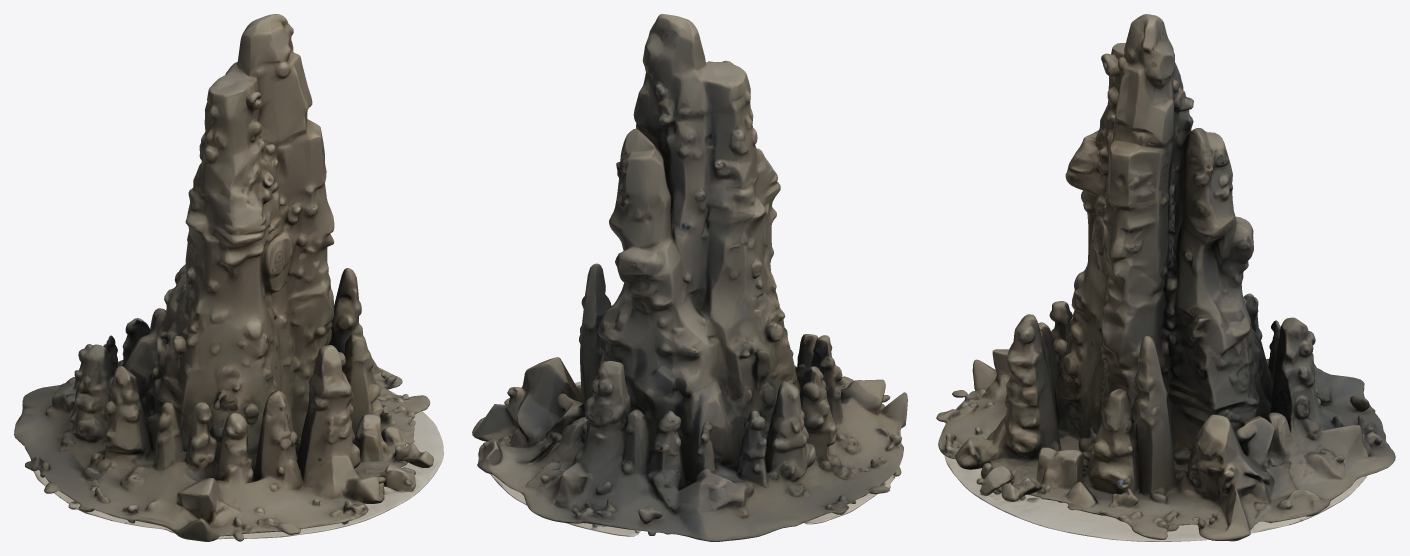
The model's file is nature-stalagmite.glb.
The picture shows the model from 3 angles, left to right: view 1: azimuth 30°, elevation 25°; view 2: azimuth 150°, elevation 25°; view 3: azimuth 270°, elevation 25°; orthographic projection. The views are drawn at different scales.
Parts seen in each view (by area): view 1: tripo_node_a2efe4f0-6aac-46a2-b68c-82f858715039; view 2: tripo_node_a2efe4f0-6aac-46a2-b68c-82f858715039; view 3: tripo_node_a2efe4f0-6aac-46a2-b68c-82f858715039.
Part boxes in pixels (bbox=[...]): tripo_node_a2efe4f0-6aac-46a2-b68c-82f858715039: bbox=[14, 14, 443, 541]; tripo_node_a2efe4f0-6aac-46a2-b68c-82f858715039: bbox=[472, 14, 907, 541]; tripo_node_a2efe4f0-6aac-46a2-b68c-82f858715039: bbox=[936, 14, 1395, 541].
Size of the model in its own units: 2.14 by 2.5 by 2.14.
1 material, 1 textured.
